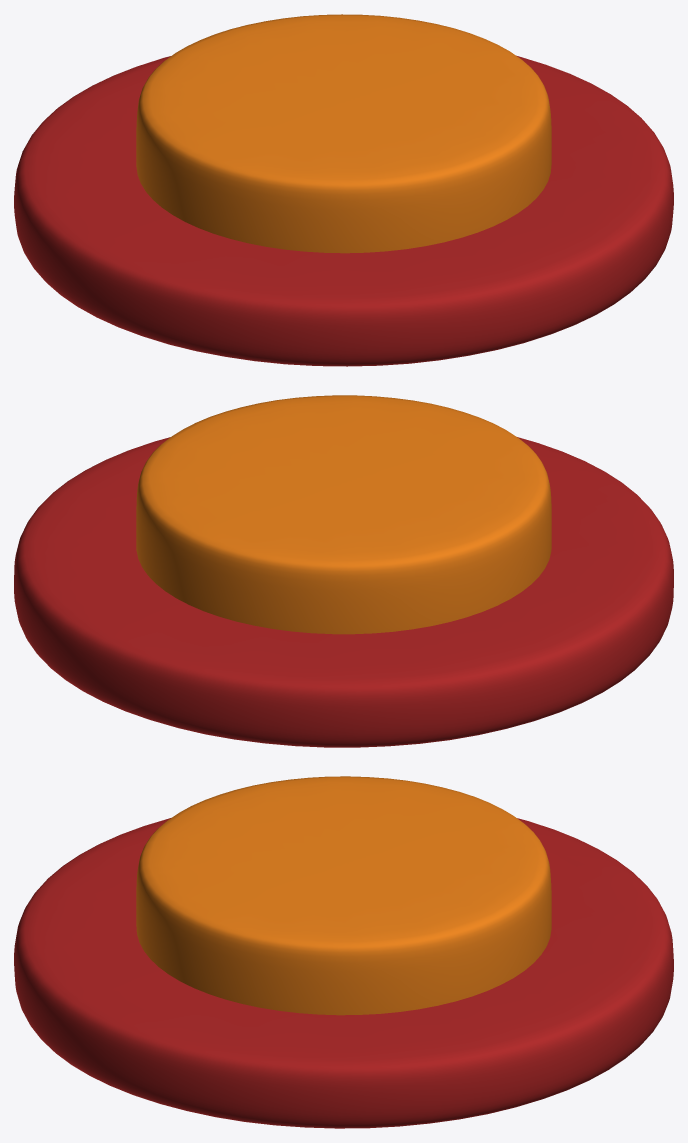
Rendered from 3D交互手势.fbx.
3 renders of one model, top to bottom at view 1: azimuth 30°, elevation 25°; view 2: azimuth 150°, elevation 25°; view 3: azimuth 270°, elevation 25°, orthographic.
Parts seen in each view (by area): view 1: 柱体, 柱体.001; view 2: 柱体, 柱体.001; view 3: 柱体, 柱体.001.
Boxes of the visible parts, x1,y1,x2,y2 form: 柱体: [14, 55, 673, 366]; 柱体.001: [136, 14, 551, 253]; 柱体: [14, 437, 673, 747]; 柱体.001: [136, 395, 551, 634]; 柱体: [14, 818, 673, 1128]; 柱体.001: [136, 776, 551, 1015].
Size of the model in its own units: 393 by 92.75 by 393.
